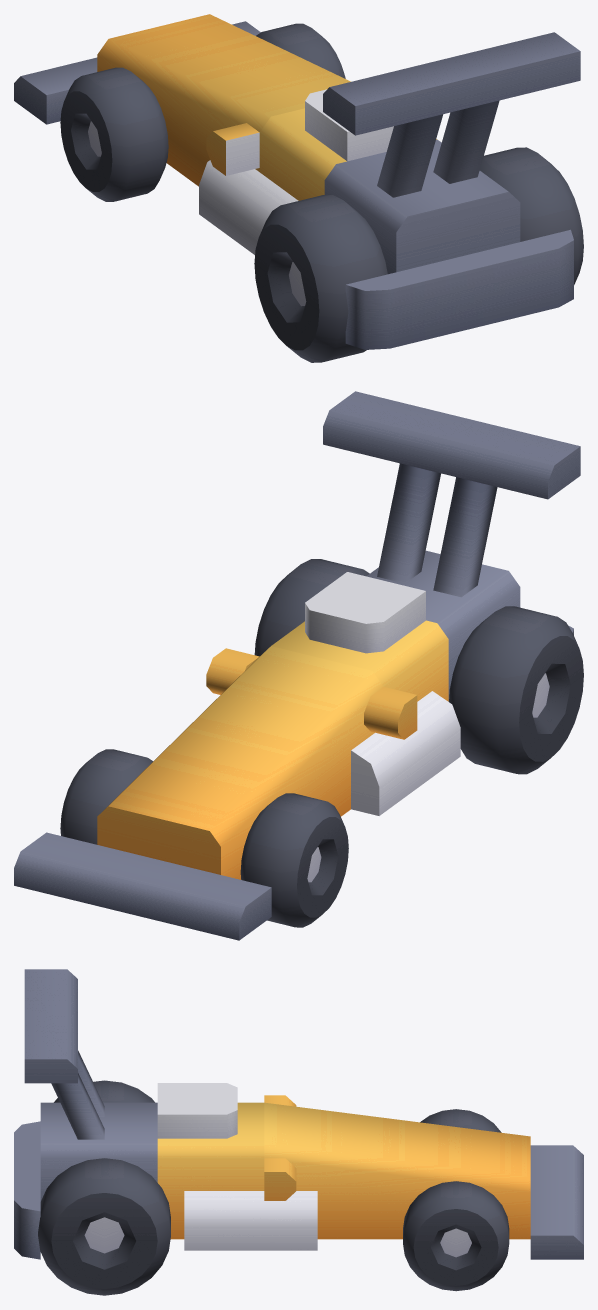
File: urban.vehicle_proxy.toy_vehicle_drag_racer_01.glb
3 views of the same model, one above another, from view 1: azimuth 30°, elevation 25°; view 2: azimuth 150°, elevation 25°; view 3: azimuth 270°, elevation 25° (orthographic). The views are drawn at different scales.
Visible parts, largest first — view 1: vehicle-drag-racer, wheel-bl, wheel-fl, wheel-br, wheel-fr; view 2: vehicle-drag-racer, wheel-bl, wheel-fl, wheel-fr, wheel-br; view 3: vehicle-drag-racer, wheel-br, wheel-fr, wheel-fl, wheel-bl.
Boxes of the visible parts, box(x1,y1,x2,y2) form: vehicle-drag-racer: box(14, 14, 580, 349); wheel-bl: box(254, 195, 387, 362); wheel-fl: box(60, 67, 168, 201); wheel-br: box(479, 147, 583, 284); wheel-fr: box(256, 23, 345, 78); vehicle-drag-racer: box(14, 391, 580, 940); wheel-bl: box(449, 606, 583, 774); wheel-fl: box(240, 793, 348, 927); wheel-fr: box(60, 749, 152, 844); wheel-br: box(254, 559, 369, 656); vehicle-drag-racer: box(14, 969, 583, 1259); wheel-br: box(38, 1158, 170, 1295); wheel-fr: box(403, 1181, 509, 1291); wheel-fl: box(420, 1109, 501, 1132); wheel-bl: box(54, 1080, 154, 1102).
Size of the model in its own units: 0.5875 by 0.6062 by 1.34.
1 material, 1 textured.
